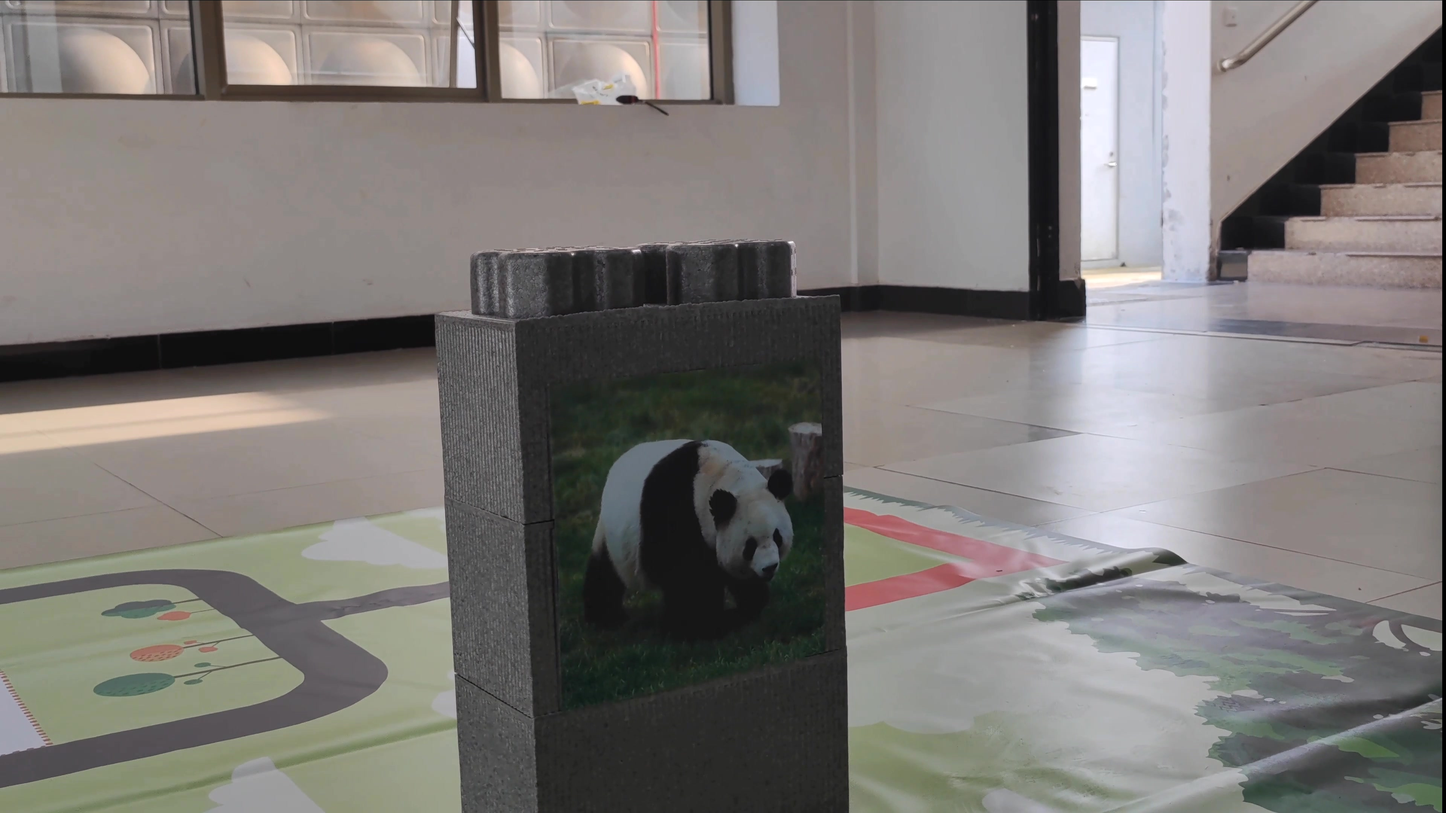panda: (566, 382, 827, 652)
